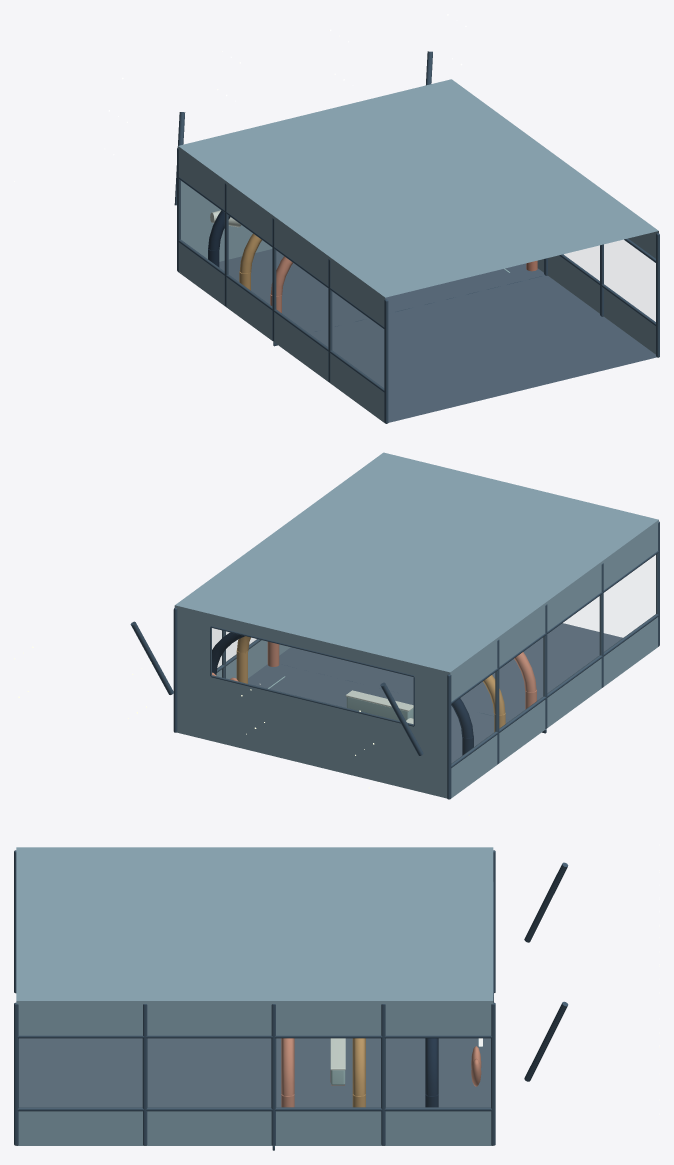
File: garage.glb
3 views of the same model, one above another, from view 1: azimuth 30°, elevation 25°; view 2: azimuth 150°, elevation 25°; view 3: azimuth 270°, elevation 25° (orthographic). The views are drawn at different scales.
Visible parts, largest first — view 1: Roof panels - Wall, Floor extension - Floor, Port wall - Wall, Floor - Floor, Port wall - Rib, Starboard wall - Wall, Rear bulkhead - Wall, Starboard wall - Rib, Signature architecture - Accent, Signature architecture - Brass, Signature architecture - Glass rim; view 2: Roof panels - Wall, Rear bulkhead - Wall, Port wall - Wall, Floor extension - Floor, Floor - Floor, Port wall - Rib, Rear bulkhead - Rib, Signature architecture - Glass rim, Signature architecture - Brass, Outside the glazing - Rib, Signature architecture - Accent, Starboard wall - Rib (+2 smaller); view 3: Roof panels - Wall, Starboard wall - Wall, Floor extension - Floor, Floor - Floor, Starboard wall - Rib, Outside the glazing - Rib, Signature architecture - Accent, Signature architecture - Glass rim, Signature architecture - Brass, Port wall - Rib, Counter - Pale.
Part boxes in pixels (bbox=[...]): Roof panels - Wall: bbox=[178, 79, 658, 297]; Floor extension - Floor: bbox=[309, 275, 656, 422]; Port wall - Wall: bbox=[178, 146, 385, 422]; Floor - Floor: bbox=[219, 249, 544, 332]; Port wall - Rib: bbox=[177, 148, 388, 423]; Starboard wall - Wall: bbox=[537, 231, 658, 354]; Rear bulkhead - Wall: bbox=[181, 181, 272, 261]; Starboard wall - Rib: bbox=[544, 233, 659, 357]; Signature architecture - Accent: bbox=[270, 256, 537, 312]; Signature architecture - Brass: bbox=[239, 233, 261, 290]; Signature architecture - Glass rim: bbox=[208, 210, 230, 267]; Roof panels - Wall: bbox=[175, 452, 658, 672]; Rear bulkhead - Wall: bbox=[174, 605, 450, 798]; Port wall - Wall: bbox=[450, 520, 658, 798]; Floor extension - Floor: bbox=[279, 623, 622, 720]; Floor - Floor: bbox=[248, 664, 510, 763]; Port wall - Rib: bbox=[447, 521, 659, 799]; Rear bulkhead - Rib: bbox=[210, 626, 414, 726]; Signature architecture - Glass rim: bbox=[212, 632, 473, 755]; Signature architecture - Brass: bbox=[236, 636, 505, 731]; Outside the glazing - Rib: bbox=[130, 621, 423, 755]; Signature architecture - Accent: bbox=[267, 641, 536, 709]; Starboard wall - Rib: bbox=[173, 607, 261, 732]; Roof panels - Wall: bbox=[16, 847, 493, 1000]; Starboard wall - Wall: bbox=[16, 1001, 493, 1145]; Floor extension - Floor: bbox=[19, 1038, 271, 1107]; Floor - Floor: bbox=[276, 1038, 490, 1107]; Starboard wall - Rib: bbox=[14, 1002, 495, 1145]; Outside the glazing - Rib: bbox=[524, 862, 568, 1081]; Signature architecture - Accent: bbox=[281, 1038, 294, 1107]; Signature architecture - Glass rim: bbox=[425, 1038, 438, 1107]; Signature architecture - Brass: bbox=[352, 1038, 365, 1107]; Port wall - Rib: bbox=[14, 850, 495, 993]; Counter - Pale: bbox=[330, 1038, 345, 1070].
Size of the model in its own units: 31.75 by 9.65 by 34.14.
